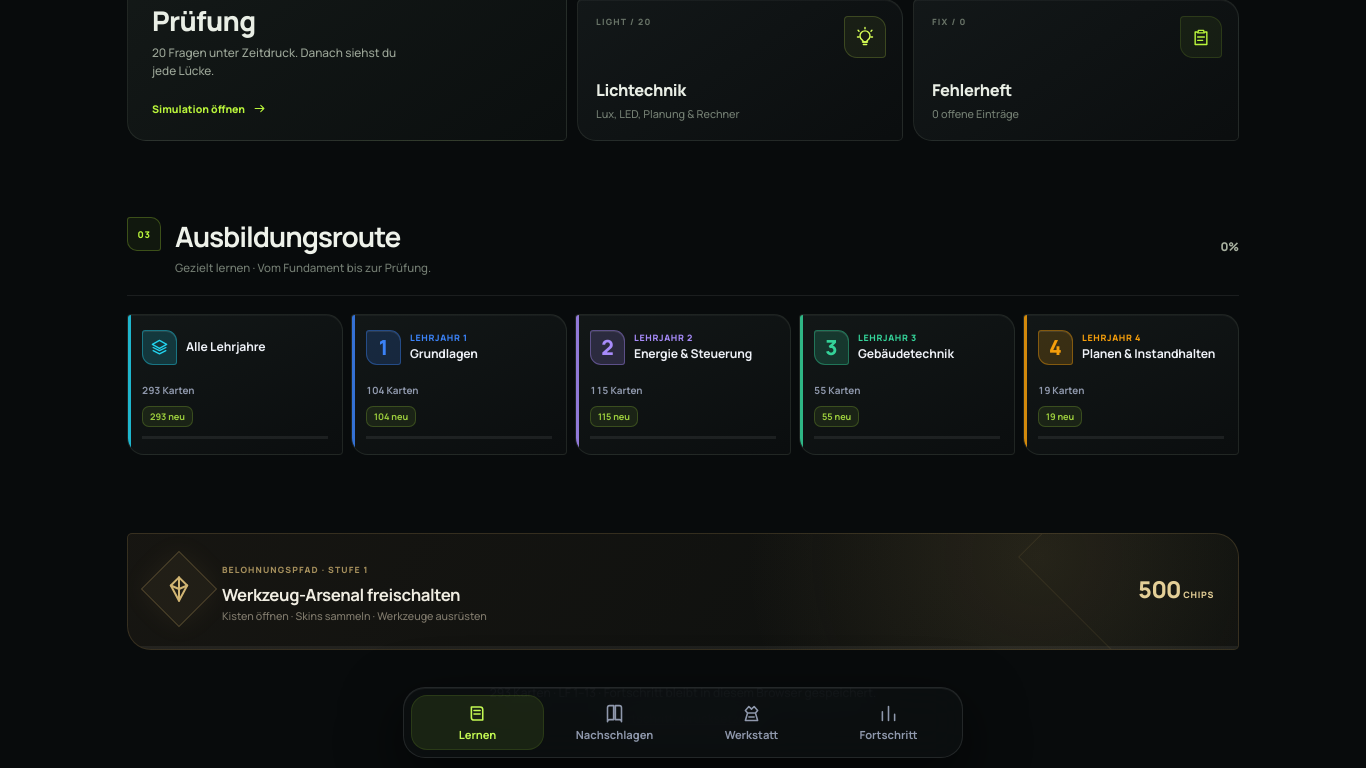
it: App smoke test › Lehrjahr 1 waehlen fuehrt zur Lernfeld-Auswahl
The image size is (1366, 768).
(page scrolled)
Click the button with aria-label "Lehrjahr 1, Grundlagen": click(459, 384) [351,314,567,455]
(page scrolled)
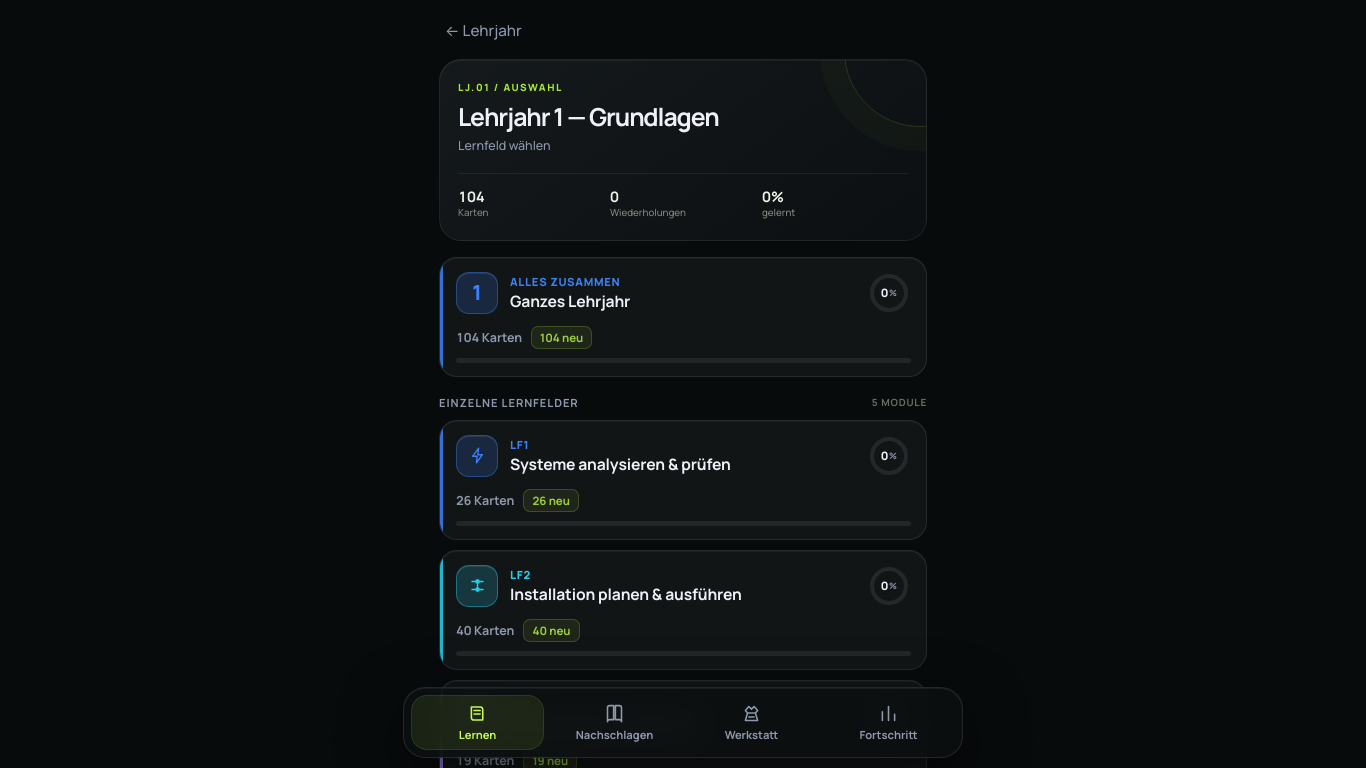
Result: the button with aria-label "LF1," is shown at [439,420,927,540]
